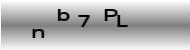7: (77, 13, 90, 28)
L: (116, 14, 128, 28)
P: (103, 8, 119, 23)
b: (56, 7, 69, 22)
n: (31, 27, 44, 39)
